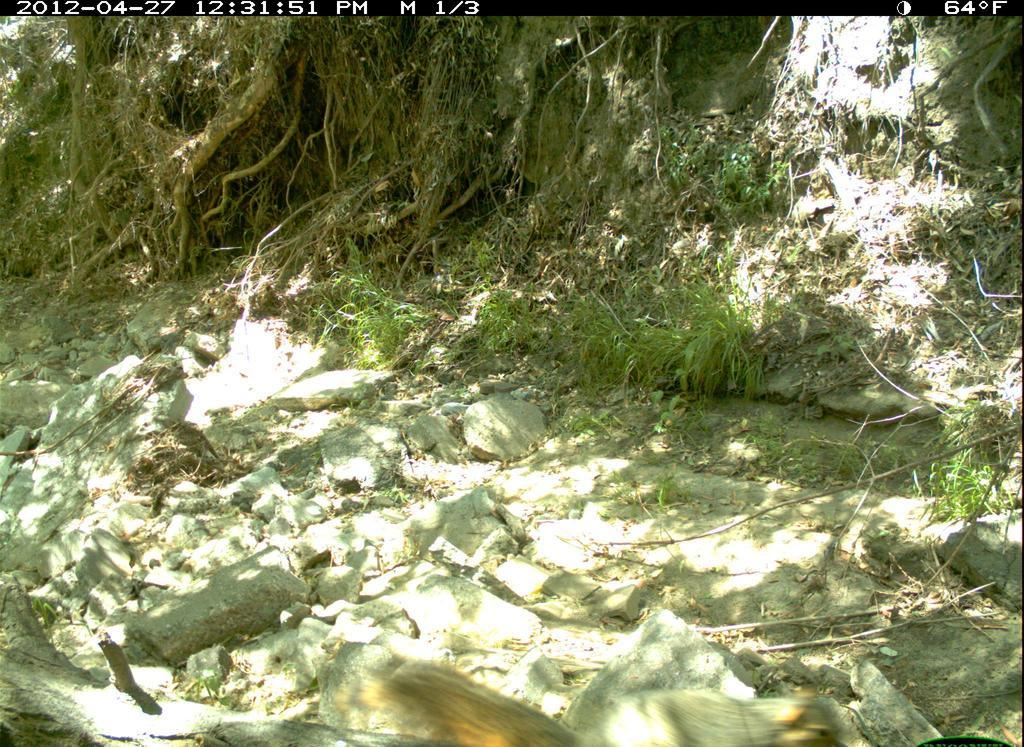squirrel: (342, 641, 859, 747)
